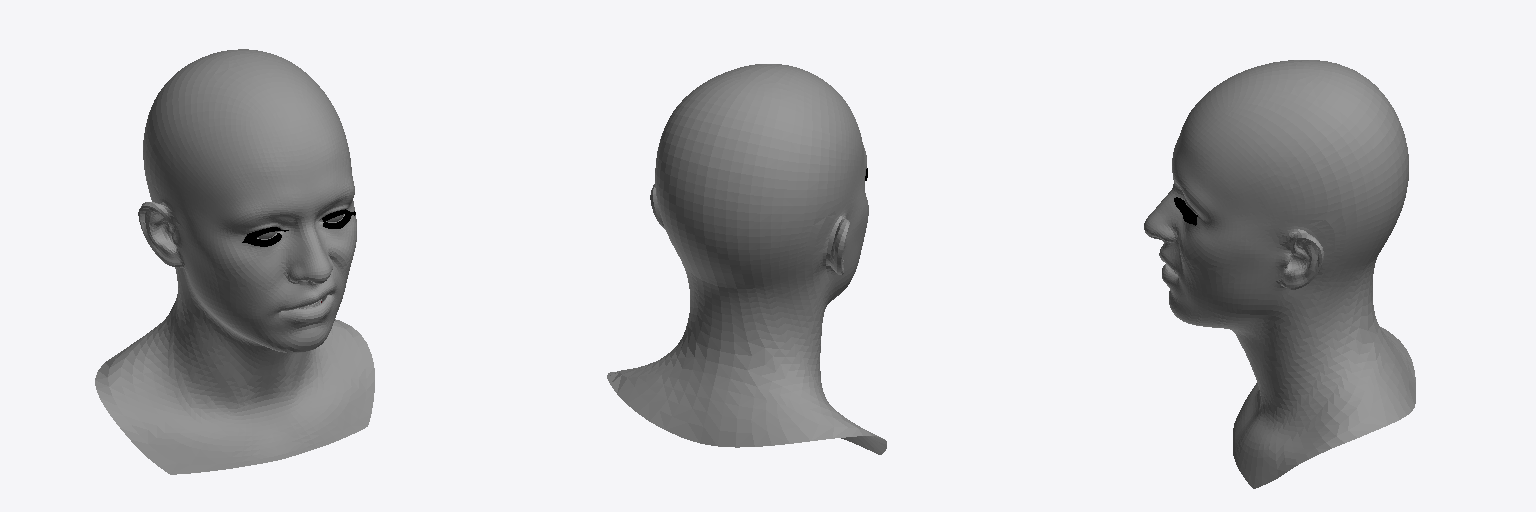
File: mouthUpperUp_L.obj
3 views of the same model, side by side, from view 1: azimuth 30°, elevation 25°; view 2: azimuth 150°, elevation 25°; view 3: azimuth 270°, elevation 25° (orthographic).
Bounding box in the file's own units: 24.83 × 33.81 × 22.3.